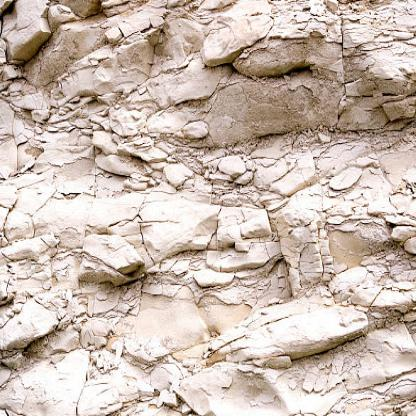Sedimentary_Limestone: (135, 181, 224, 262), (200, 0, 275, 77), (36, 0, 76, 32), (179, 113, 207, 144)
